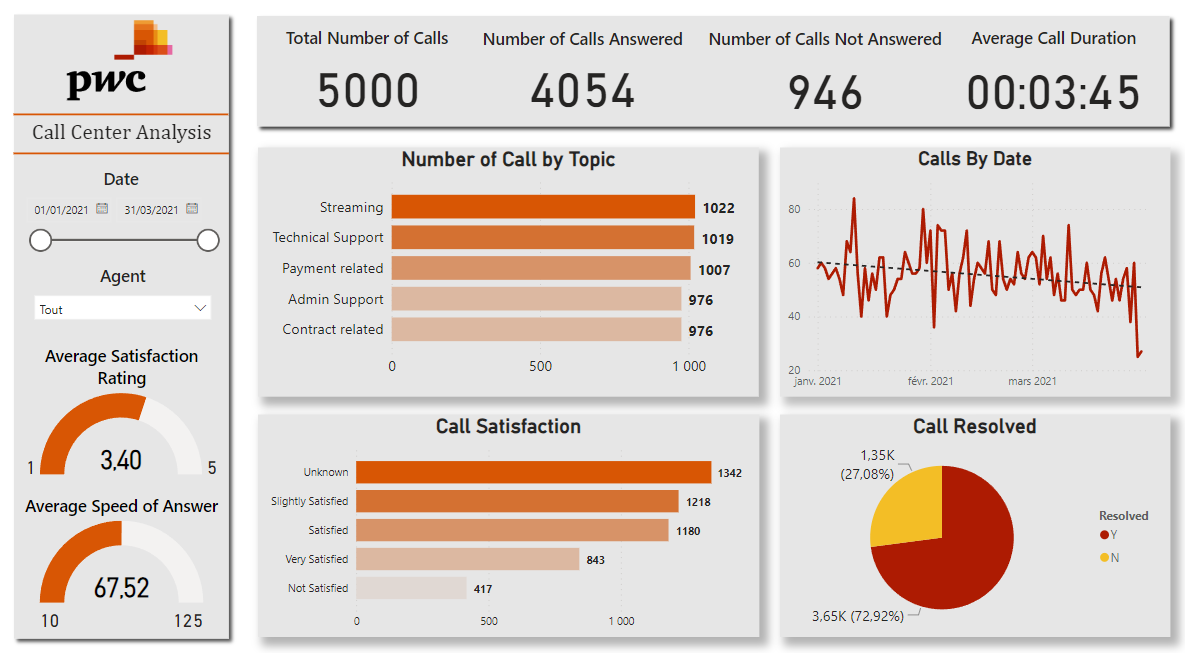

Layout of this report page (visuals, bound fields, positions):
{"tool":"powerbi","page":{"name":"Call Center Analysis","canvas":[1350,750],"ordinal":1},"visuals":[{"type":"shape","box":[20.2,18.5,259.6,719.7],"z":0},{"type":"shape","box":[293.8,20,1043.2,142.2],"z":1000,"group":"g1"},{"type":"image","box":[76.6,28.7,143.6,100.5],"z":1000},{"type":"textbox","box":[34.3,139.2,232.9,50],"z":2000,"group":"g2"},{"type":"slicer","title":"Agent","fields":{"Values":["Sheet1.Agent"]},"box":[41.5,308,218.6,63.8],"z":2000},{"type":"gauge","title":"Average Satisfaction Rating","fields":{"Y":["Sheet1.Overall Customer Satisfaction"],"MinValue":["Sheet1.Min rating"],"MaxValue":["Sheet1.Max rating"]},"box":[32,397.8,236,156.7],"z":3000},{"type":"card","title":"Total Number of Calls","fields":{"Values":["Sheet1.Total number of calls"]},"box":[319.2,40.5,214.5,105.4],"z":4000,"group":"g1"},{"type":"gauge","title":"Average Speed of Answer","fields":{"Y":["Sheet1.Average speed of answer"],"MinValue":["Min(Sheet1.Speed of answer in seconds)"],"MaxValue":["Max(Sheet1.Speed of answer in seconds)1"]},"box":[32,566.3,236,160.1],"z":4000},{"type":"clusteredBarChart","title":"Number of Call by Topic","fields":{"Category":["Sheet1.Topic"],"Y":["CountNonNull(Sheet1.Call Id)"]},"box":[303.8,176.2,562.5,280],"z":5000},{"type":"lineChart","title":"Calls By Date","fields":{"Y":["CountNonNull(Sheet1.Call Id)"],"Category":["Sheet1.Date.Variation.Hiérarchie de dates.Année","Sheet1.Date.Variation.Hiérarchie de dates.Trimestre","Sheet1.Date.Variation.Hiérarchie de dates.Mois","Sheet1.Date.Variation.Hiérarchie de dates.Jour"]},"box":[890,176.2,438.8,280],"z":6000},{"type":"group","id":"g1","title":"Groupe 1","box":[293.8,20,1043.2,142.2],"z":7000},{"type":"card","title":"Average Call Duration","fields":{"Values":["Sheet1.Durée moyenne des appels"]},"box":[1076.2,40.2,244.4,109.6],"z":7000,"group":"g1"},{"type":"clusteredBarChart","title":"Call Satisfaction","fields":{"Y":["CountNonNull(Sheet1.Call Id)"],"Category":["Sheet1.Satisfaction"]},"box":[303.3,476.7,563.3,250],"z":8000},{"type":"pieChart","title":"Call Resolved","fields":{"Series":["Sheet1.Resolved"],"Y":["CountNonNull(Sheet1.Call Id)"],"Category":["Sheet1.Resolved"]},"box":[890,476.7,438.3,250],"z":9000},{"type":"slicer","title":"Date","fields":{"Values":["Sheet1.Date"]},"box":[30.3,199.5,237.8,108.5],"z":10000},{"type":"group","id":"g2","title":"Groupe 2","box":[29.2,129.1,241.7,64.3],"z":11000},{"type":"card","title":"Number of Calls Answered","fields":{"Values":["Sheet1.Total number of calls answered"]},"box":[533.1,42.1,271.3,102.1],"z":12000},{"type":"card","title":"Number of Calls Not Answered","fields":{"Values":["Sheet1.Total number of calls not answered"]},"box":[803.9,42.1,273,106.2],"z":13000},{"type":"shape","box":[29.2,173.4,241.7,20],"z":13000,"group":"g2"},{"type":"shape","box":[29.2,129.1,241.3,20],"z":14000,"group":"g2"}]}

Visuals, with their boxes in screenshot pixels (x1, y1, x2, y2), scaled from the page's 1350x750 canvas onto the 1185x653 screenshot:
shape: (left=18, top=16, right=246, bottom=643)
shape: (left=258, top=17, right=1174, bottom=141)
image: (left=67, top=25, right=193, bottom=112)
textbox: (left=30, top=121, right=235, bottom=165)
"Agent" slicer: (left=36, top=268, right=228, bottom=324)
"Average Satisfaction Rating" gauge: (left=28, top=346, right=235, bottom=483)
"Total Number of Calls" card: (left=280, top=35, right=468, bottom=127)
"Average Speed of Answer" gauge: (left=28, top=493, right=235, bottom=632)
"Number of Call by Topic" clusteredBarChart: (left=267, top=153, right=760, bottom=397)
"Calls By Date" lineChart: (left=781, top=153, right=1166, bottom=397)
"Groupe 1" group: (left=258, top=17, right=1174, bottom=141)
"Average Call Duration" card: (left=945, top=35, right=1159, bottom=130)
"Call Satisfaction" clusteredBarChart: (left=266, top=415, right=761, bottom=633)
"Call Resolved" pieChart: (left=781, top=415, right=1166, bottom=633)
"Date" slicer: (left=27, top=174, right=235, bottom=268)
"Groupe 2" group: (left=26, top=112, right=238, bottom=168)
"Number of Calls Answered" card: (left=468, top=37, right=706, bottom=126)
"Number of Calls Not Answered" card: (left=706, top=37, right=945, bottom=129)
shape: (left=26, top=151, right=238, bottom=168)
shape: (left=26, top=112, right=237, bottom=130)
